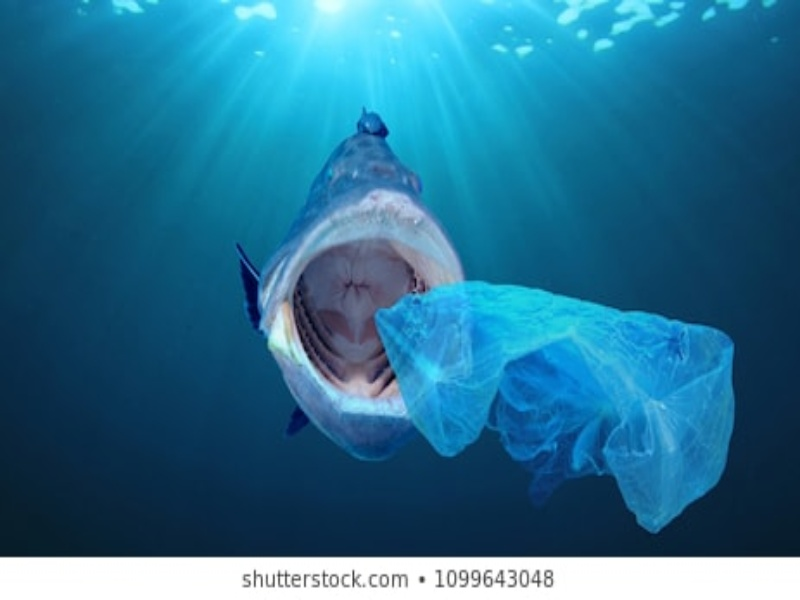plastic-bag: (372, 279, 735, 536)
